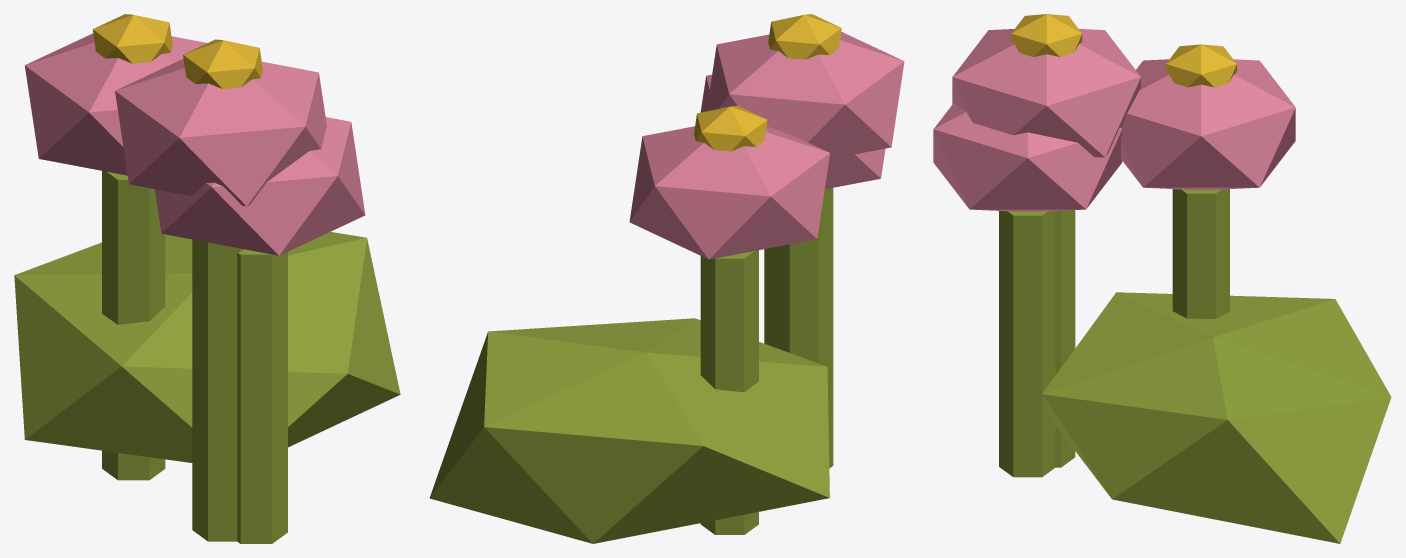
Rendered from prop_flowers_pink.glb.
The picture shows the model from 3 angles, left to right: view 1: azimuth 30°, elevation 25°; view 2: azimuth 150°, elevation 25°; view 3: azimuth 270°, elevation 25°; orthographic projection. The views are drawn at different scales.
Visible parts, largest first — view 1: fpk_leafmound, fpk_head2, fpk_stem1, fpk_head1, fpk_stem2, fpk_head0, fpk_stem0, fpk_eye0, fpk_eye2; view 2: fpk_leafmound, fpk_head0, fpk_head2, fpk_stem0, fpk_stem2, fpk_eye2, fpk_eye0, fpk_head1, fpk_stem1; view 3: fpk_leafmound, fpk_head0, fpk_head2, fpk_stem1, fpk_head1, fpk_stem0, fpk_stem2, fpk_eye2, fpk_eye0.
Part boxes in pixels (x1=…): fpk_leafmound: x1=14, y1=232, x2=400, y2=462; fpk_head2: x1=115, y1=58, x2=326, y2=206; fpk_stem1: x1=237, y1=249, x2=287, y2=543; fpk_head1: x1=154, y1=117, x2=365, y2=255; fpk_stem2: x1=192, y1=239, x2=243, y2=541; fpk_head0: x1=24, y1=33, x2=206, y2=175; fpk_stem0: x1=102, y1=171, x2=165, y2=480; fpk_eye0: x1=92, y1=14, x2=172, y2=63; fpk_eye2: x1=183, y1=39, x2=262, y2=88; fpk_leafmound: x1=429, y1=318, x2=829, y2=543; fpk_head0: x1=629, y1=126, x2=830, y2=259; fpk_head2: x1=706, y1=32, x2=904, y2=158; fpk_stem0: x1=700, y1=250, x2=758, y2=534; fpk_stem2: x1=775, y1=188, x2=833, y2=468; fpk_eye2: x1=768, y1=14, x2=841, y2=59; fpk_eye0: x1=694, y1=105, x2=767, y2=151; fpk_head1: x1=700, y1=74, x2=885, y2=189; fpk_stem1: x1=764, y1=247, x2=774, y2=347; fpk_leafmound: x1=1042, y1=292, x2=1391, y2=543; fpk_head0: x1=1121, y1=59, x2=1295, y2=189; fpk_head2: x1=952, y1=29, x2=1140, y2=157; fpk_stem1: x1=999, y1=211, x2=1055, y2=477; fpk_head1: x1=933, y1=103, x2=1122, y2=211; fpk_stem0: x1=1172, y1=189, x2=1229, y2=318; fpk_stem2: x1=1055, y1=210, x2=1075, y2=467; fpk_eye2: x1=1011, y1=14, x2=1082, y2=56; fpk_eye0: x1=1166, y1=44, x2=1236, y2=87.
Bounding box in the file's own units: 0.2869 × 0.3797 × 0.351.
